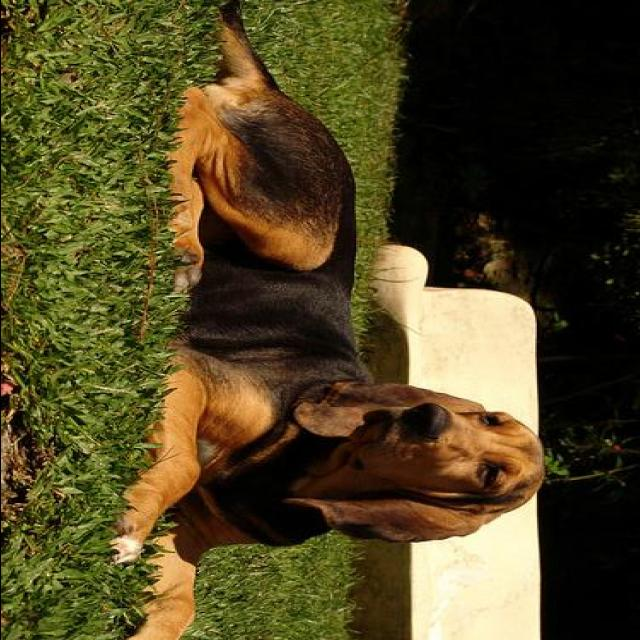bloodhound: (105, 1, 542, 640)
